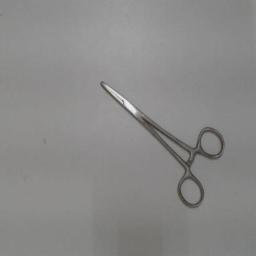Mayo Needle Holder: (90, 74, 230, 212)
